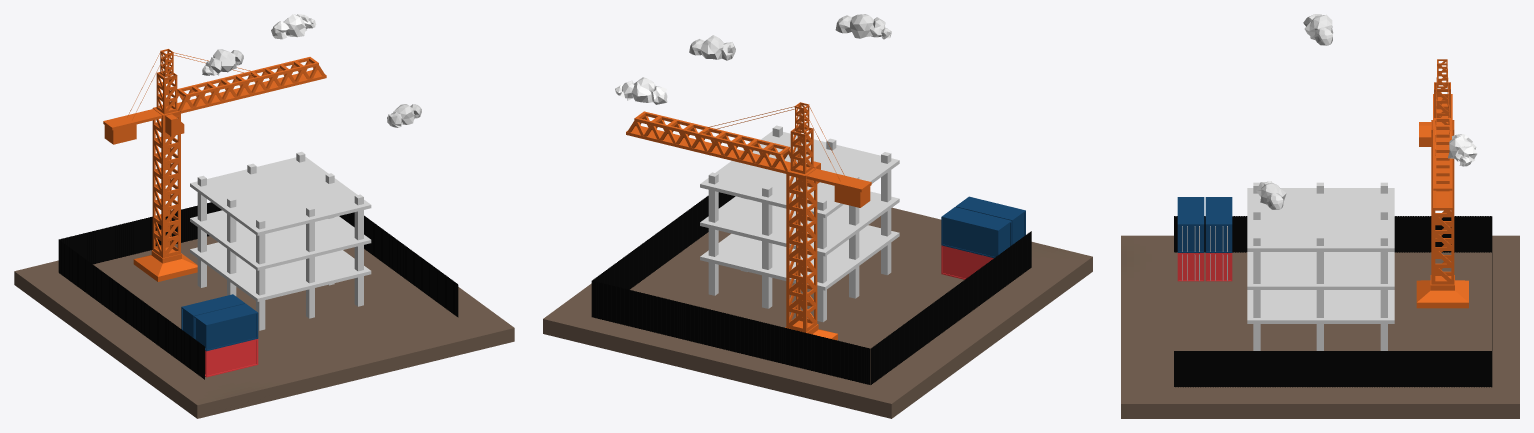
The model's file is tower_crane.gltf.
3 views of the same model, side by side, from view 1: azimuth 30°, elevation 25°; view 2: azimuth 150°, elevation 25°; view 3: azimuth 270°, elevation 25° (orthographic). The views are drawn at different scales.
Parts seen in each view (by area): view 1: sol, Cube.018, floor.002, floor.001, floor, Cube.062, Cube.061, Cube.064, Cube.068, Cube.067, Cube.072, Cube.065 (+6 smaller); view 2: sol, Cube.018, floor.002, floor.001, floor, Cube.064, Cube.062, Cube.063, Cube.066, Cube.071, Cube.065, Cube.067 (+18 smaller); view 3: sol, floor.002, Cube.018, floor.001, floor, Cube.062, Cube.064, Cube.061, Cube.063, Cube.066, Cube.068, Cube.070 (+23 smaller).
Boxes of the visible parts, left/top/right/bottom form: sol: left=14, top=236, right=514, bottom=418; Cube.018: left=103, top=49, right=326, bottom=281; floor.002: left=190, top=157, right=371, bottom=235; floor.001: left=190, top=210, right=371, bottom=270; floor: left=190, top=242, right=371, bottom=301; Cube.062: left=194, top=303, right=258, bottom=351; Cube.061: left=205, top=339, right=258, bottom=377; Cube.064: left=181, top=294, right=245, bottom=338; Cube.068: left=354, top=194, right=363, bottom=306; Cube.067: left=256, top=218, right=265, bottom=330; Cube.072: left=306, top=206, right=314, bottom=318; Cube.065: left=197, top=175, right=206, bottom=287; sol: left=543, top=207, right=1092, bottom=418; Cube.018: left=626, top=102, right=871, bottom=340; floor.002: left=700, top=131, right=899, bottom=217; floor.001: left=700, top=191, right=899, bottom=256; floor: left=700, top=225, right=899, bottom=290; Cube.064: left=941, top=207, right=1011, bottom=258; Cube.062: left=955, top=196, right=1025, bottom=244; Cube.063: left=941, top=245, right=993, bottom=279; Cube.066: left=708, top=172, right=718, bottom=295; Cube.071: left=762, top=185, right=772, bottom=308; Cube.065: left=817, top=199, right=826, bottom=322; Cube.067: left=881, top=152, right=891, bottom=275; sol: left=1121, top=235, right=1519, bottom=418; floor.002: left=1247, top=188, right=1394, bottom=251; Cube.018: left=1416, top=59, right=1468, bottom=308; floor.001: left=1247, top=252, right=1394, bottom=289; floor: left=1247, top=290, right=1394, bottom=323; Cube.062: left=1177, top=197, right=1204, bottom=252; Cube.064: left=1205, top=197, right=1232, bottom=252; Cube.061: left=1177, top=253, right=1204, bottom=281; Cube.063: left=1205, top=253, right=1232, bottom=281; Cube.066: left=1380, top=235, right=1387, bottom=350; Cube.068: left=1253, top=235, right=1260, bottom=350; Cube.070: left=1316, top=235, right=1323, bottom=350.
Bounding box in the file's own units: 100 × 82.11 × 100.
6 materials, 6 textured.
